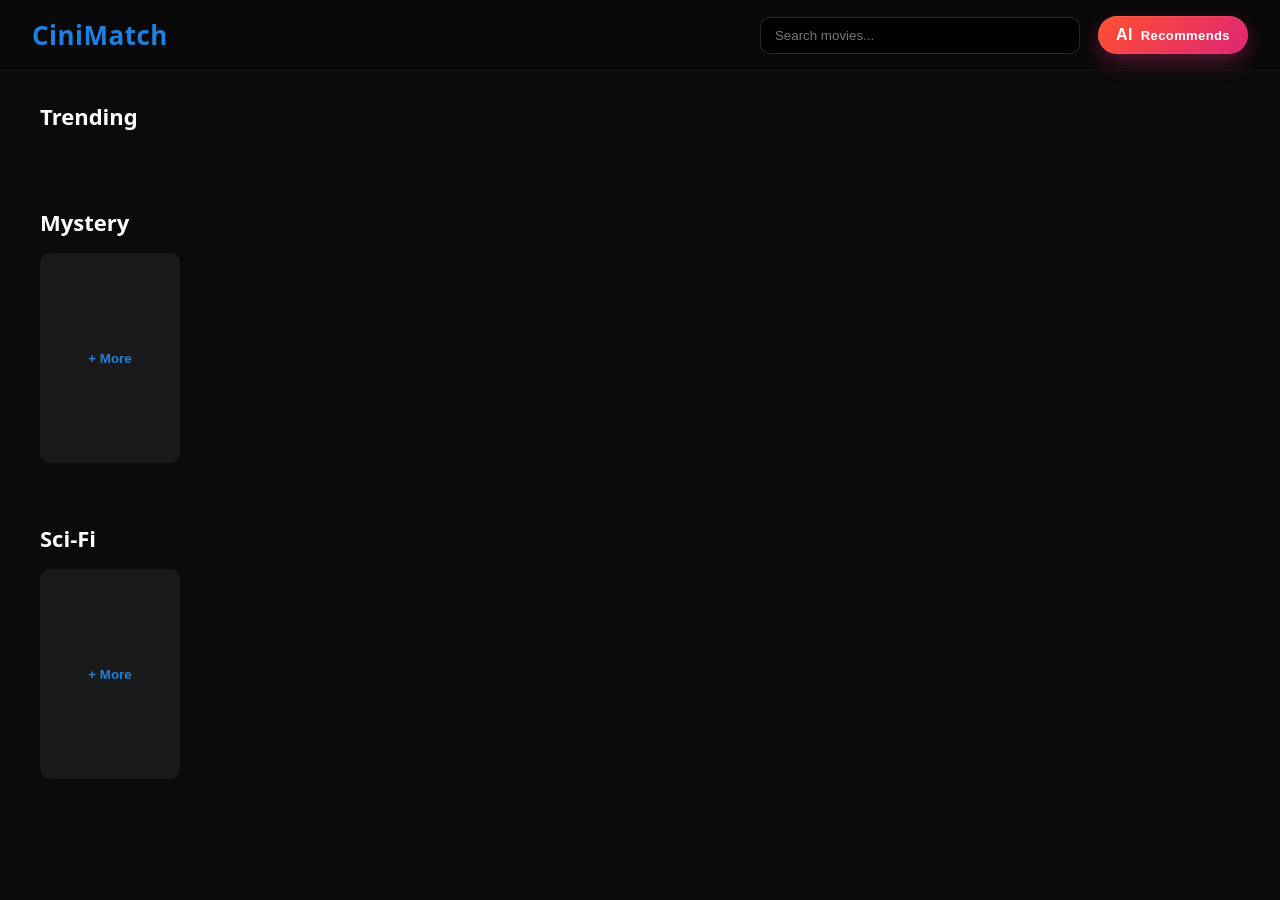
Test: uses metadata in the recommendation modal
Step 1. Click the button with aria-label "personal movie recommendations" → (1173, 35), box top-left (1098, 16), bottom-right (1248, 54)
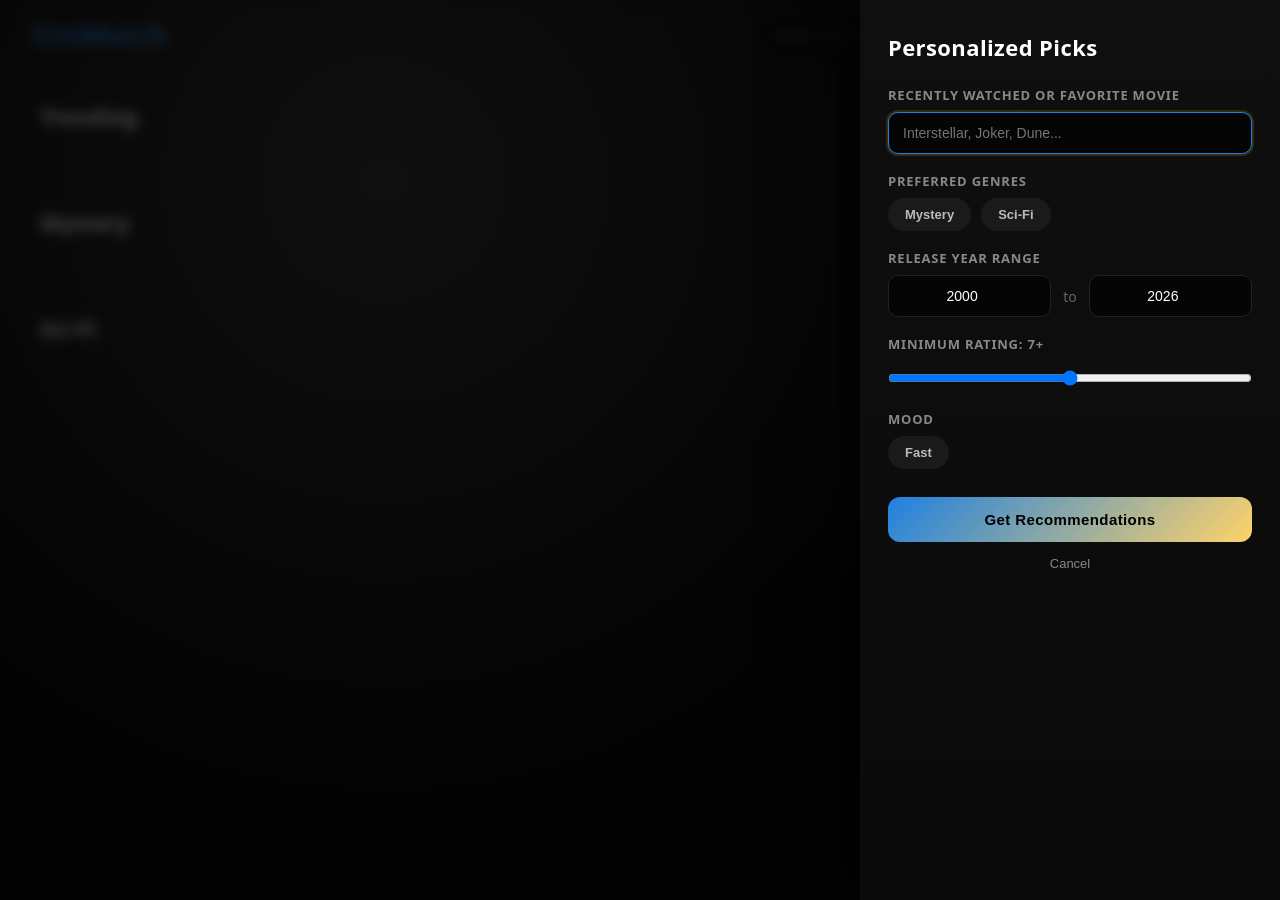
Result: the button "Mystery" is shown at top-left (888, 198), bottom-right (971, 231)
Result: the button "Sci-Fi" is shown at top-left (981, 198), bottom-right (1050, 231)
Result: the button "Fast" is shown at top-left (888, 436), bottom-right (949, 469)
